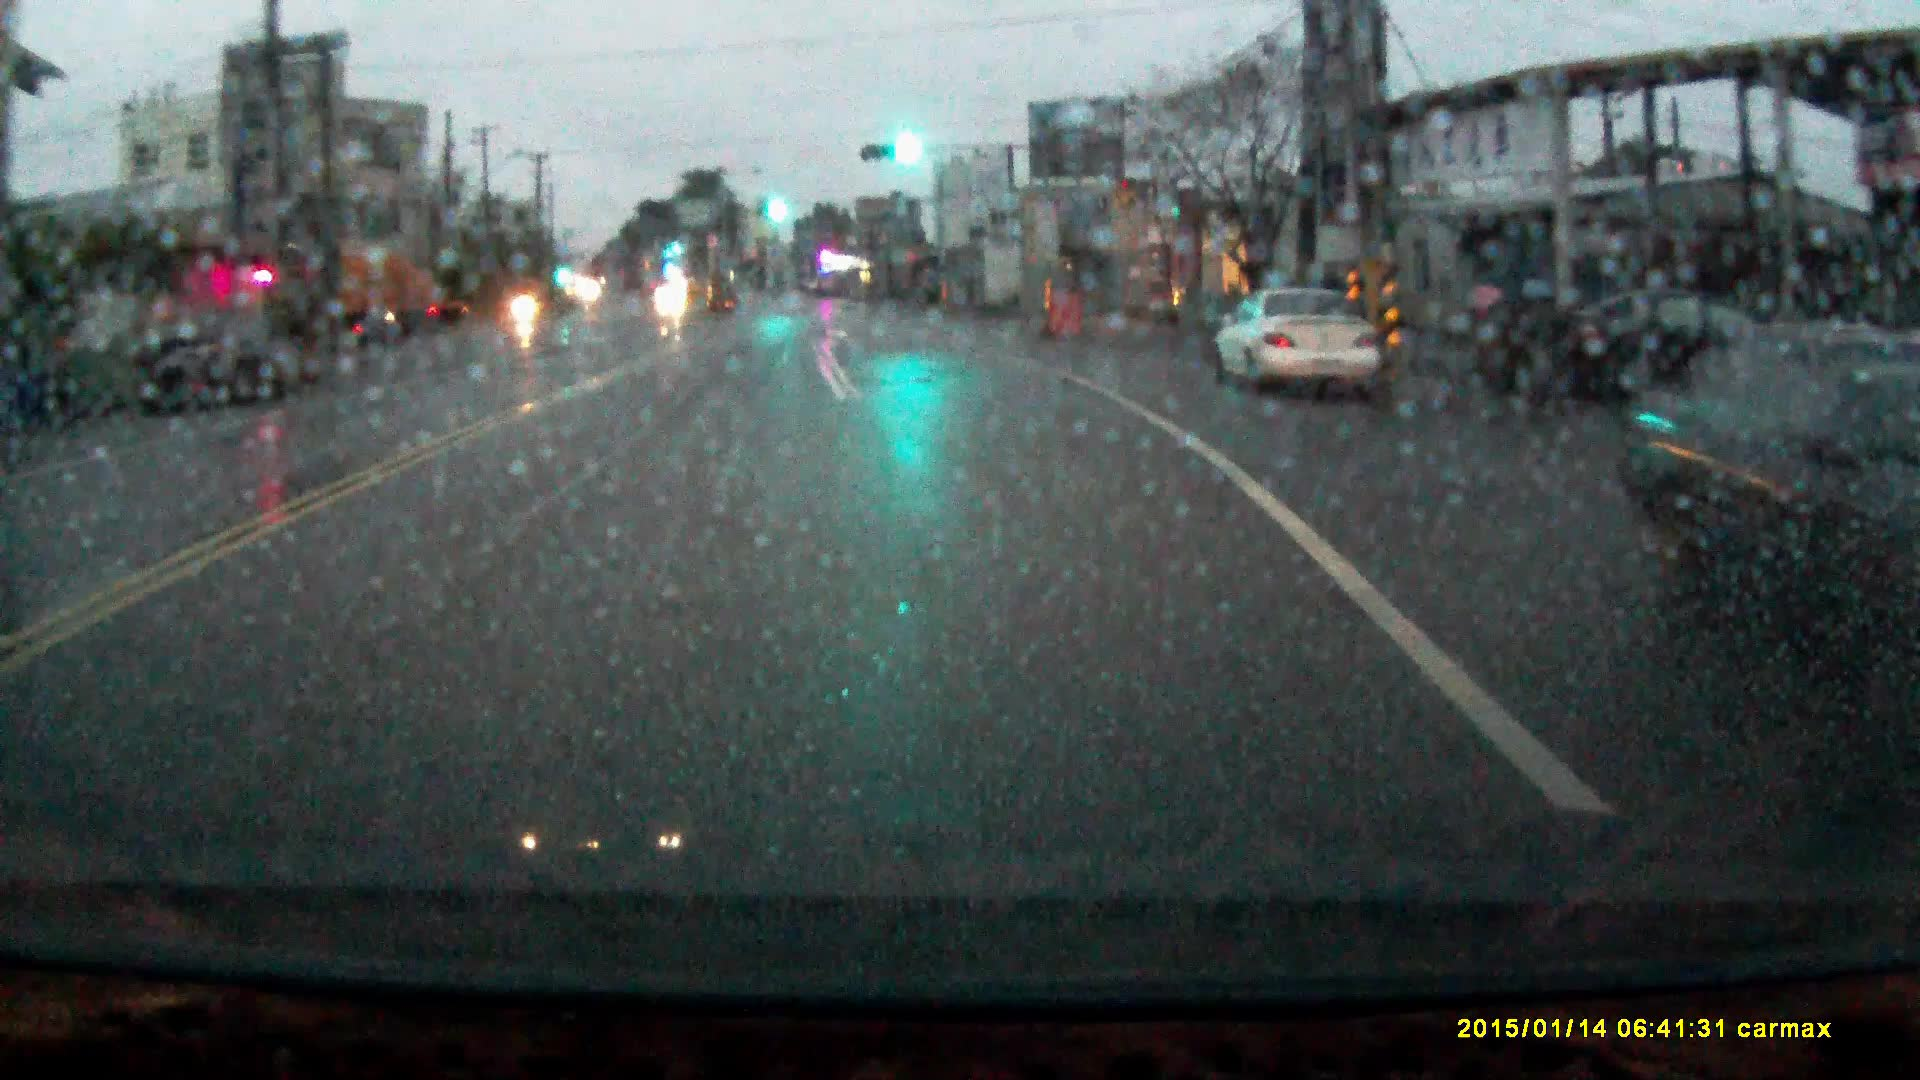rider: (509, 275, 543, 334)
vehicle: (1212, 289, 1377, 399), (302, 241, 470, 338), (130, 322, 298, 416), (658, 288, 687, 313)
